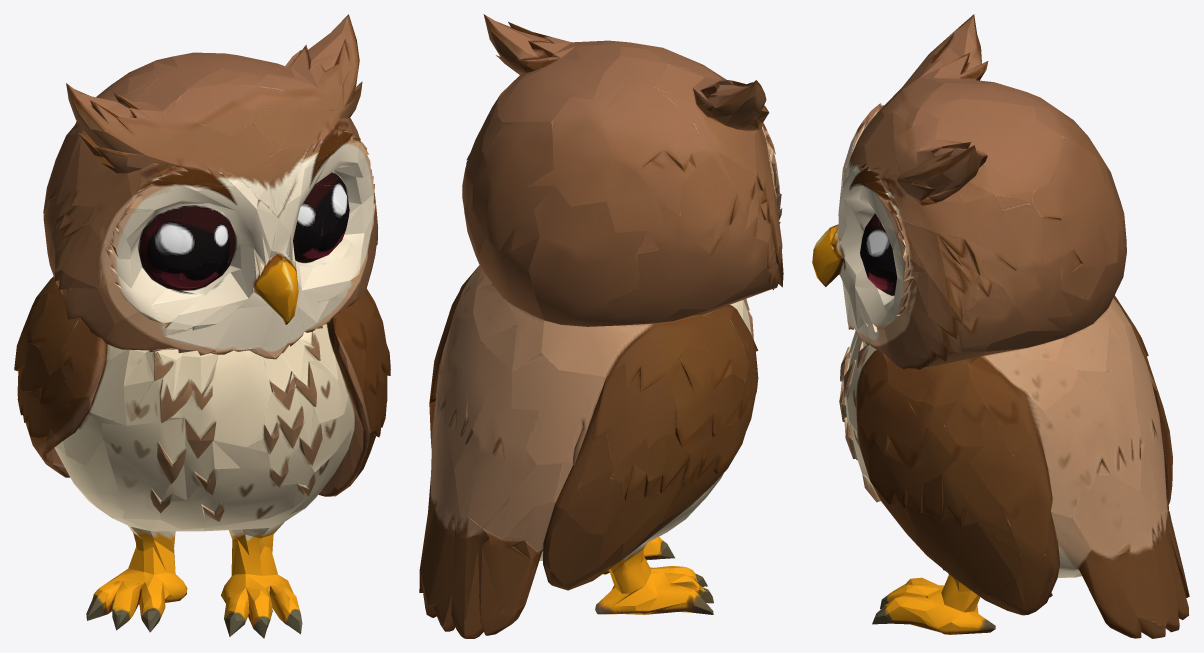
File: owl.glb
The picture shows the model from 3 angles, left to right: view 1: azimuth 30°, elevation 25°; view 2: azimuth 150°, elevation 25°; view 3: azimuth 270°, elevation 25°; orthographic projection. The views are drawn at different scales.
Bounding box in the file's own units: 1.17 × 1.9 × 1.23.
1 material, 1 textured.
